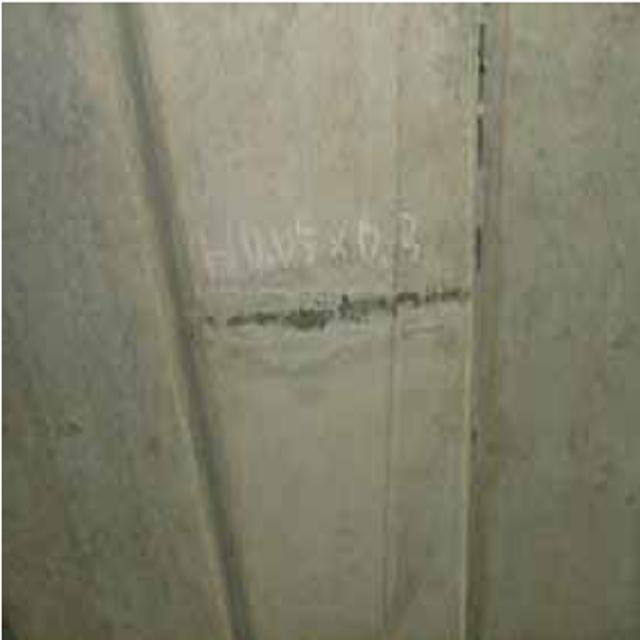spalling: (185, 263, 494, 361)
